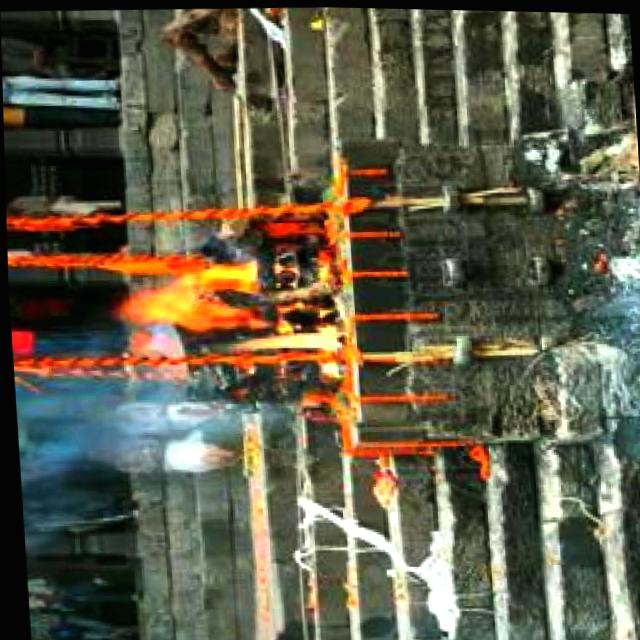helmet: (102, 254, 342, 362)
